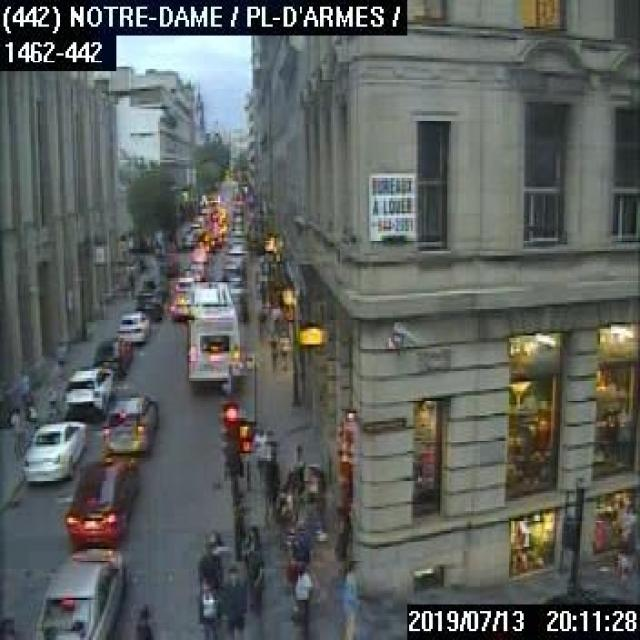bus: (186, 278, 245, 386)
pedestrian: (242, 524, 266, 602), (338, 551, 358, 638), (222, 567, 245, 638), (292, 562, 313, 638), (193, 574, 217, 638), (252, 425, 268, 481), (131, 602, 154, 638), (7, 408, 22, 456), (53, 334, 67, 376), (47, 384, 62, 416), (278, 330, 289, 369), (269, 332, 276, 369)
vehicle: (34, 542, 123, 638), (66, 450, 138, 541), (21, 419, 87, 483), (102, 392, 159, 458), (62, 365, 114, 418), (92, 334, 134, 378), (115, 307, 149, 348), (132, 290, 162, 318), (167, 282, 187, 321)
